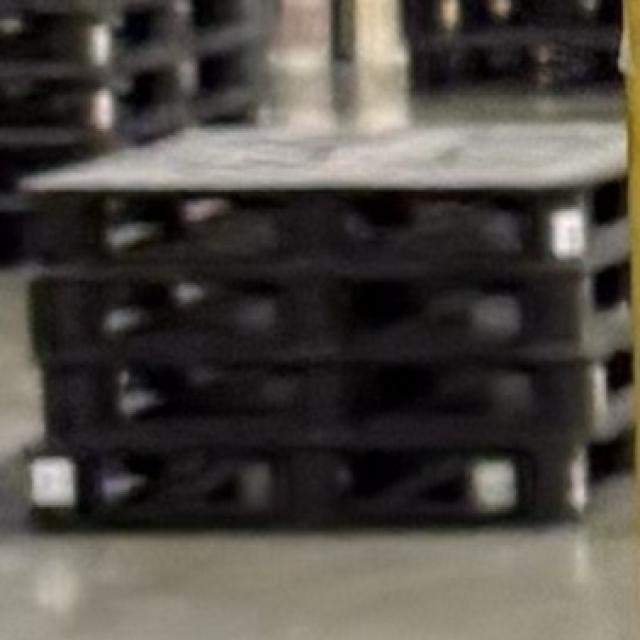igps: (7, 101, 638, 278), (14, 435, 640, 545), (18, 268, 640, 362), (22, 354, 640, 436), (0, 36, 287, 139), (0, 0, 290, 73)
